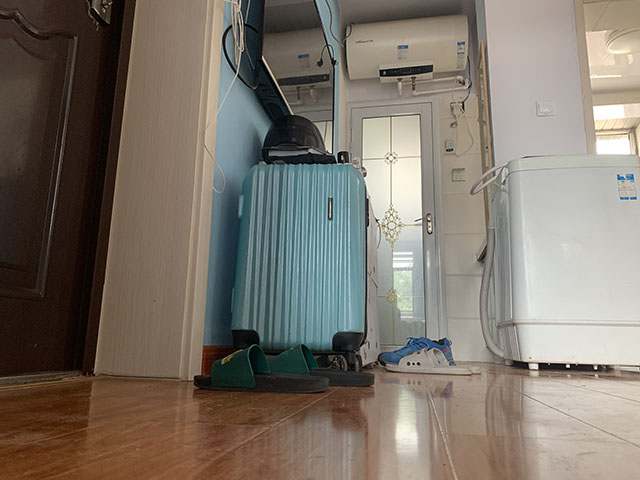slippers: (191, 343, 376, 396), (383, 347, 483, 376)
